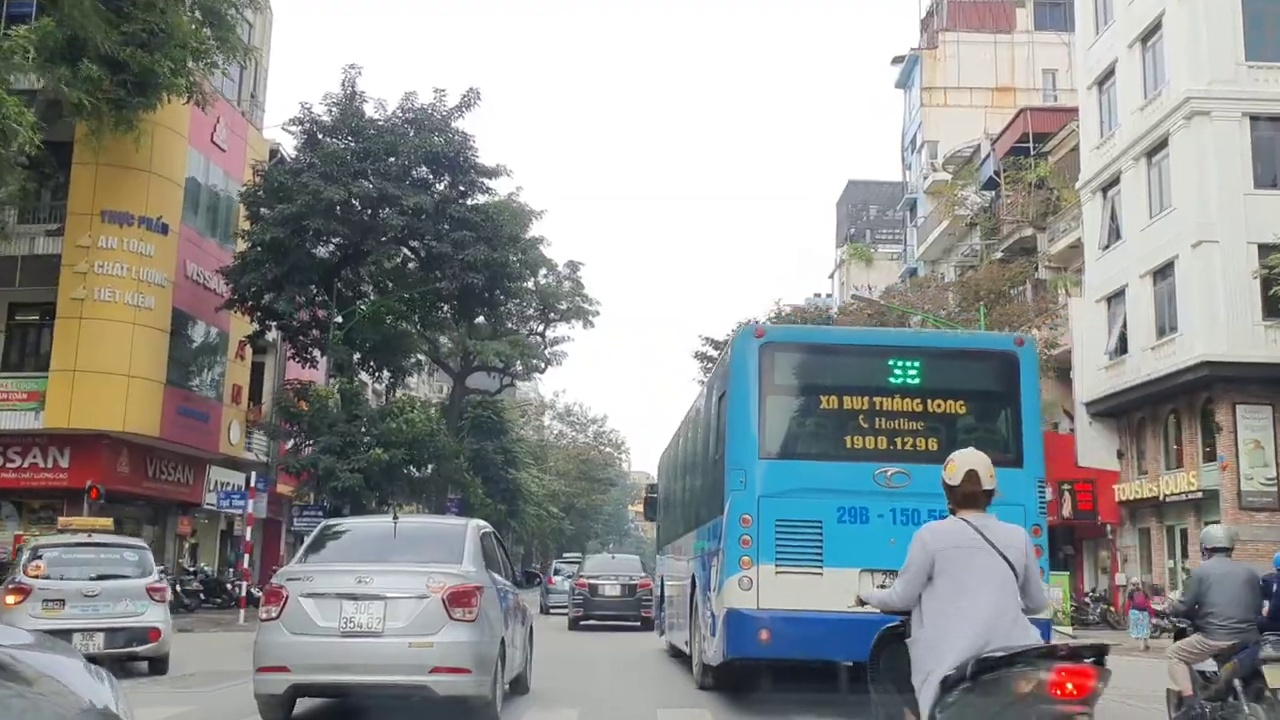person: (70, 627, 110, 650)
